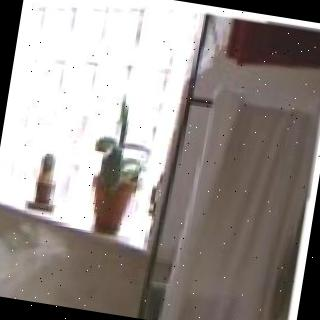smoke: (0, 171, 103, 309)
